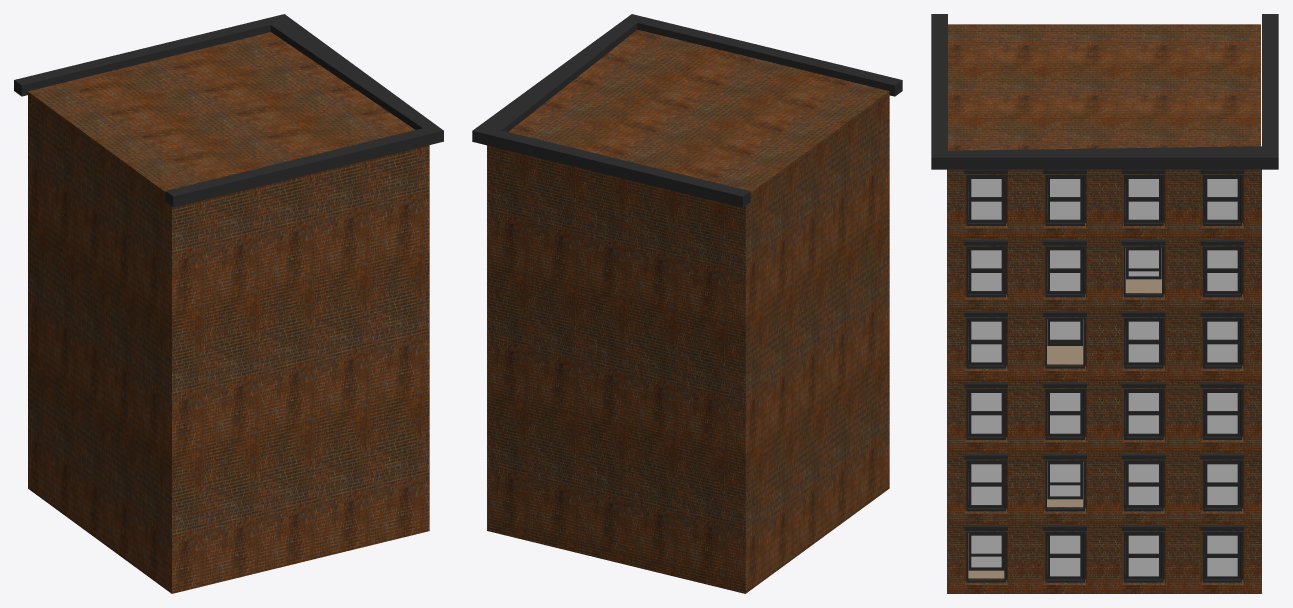
File: BordedBuilding.fbx
3 views of the same model, side by side, from view 1: azimuth 30°, elevation 25°; view 2: azimuth 150°, elevation 25°; view 3: azimuth 270°, elevation 25° (orthographic). The views are drawn at different scales.
Visible parts, largest first — view 1: Building1RedBrick; view 2: Building1RedBrick; view 3: Building1RedBrick.
Boxes of the visible parts, bbox=[...] form: Building1RedBrick: bbox=[14, 14, 443, 593]; Building1RedBrick: bbox=[472, 14, 902, 593]; Building1RedBrick: bbox=[931, 14, 1278, 593].
Bounding box in the file's own units: 864 × 1234 × 882.
